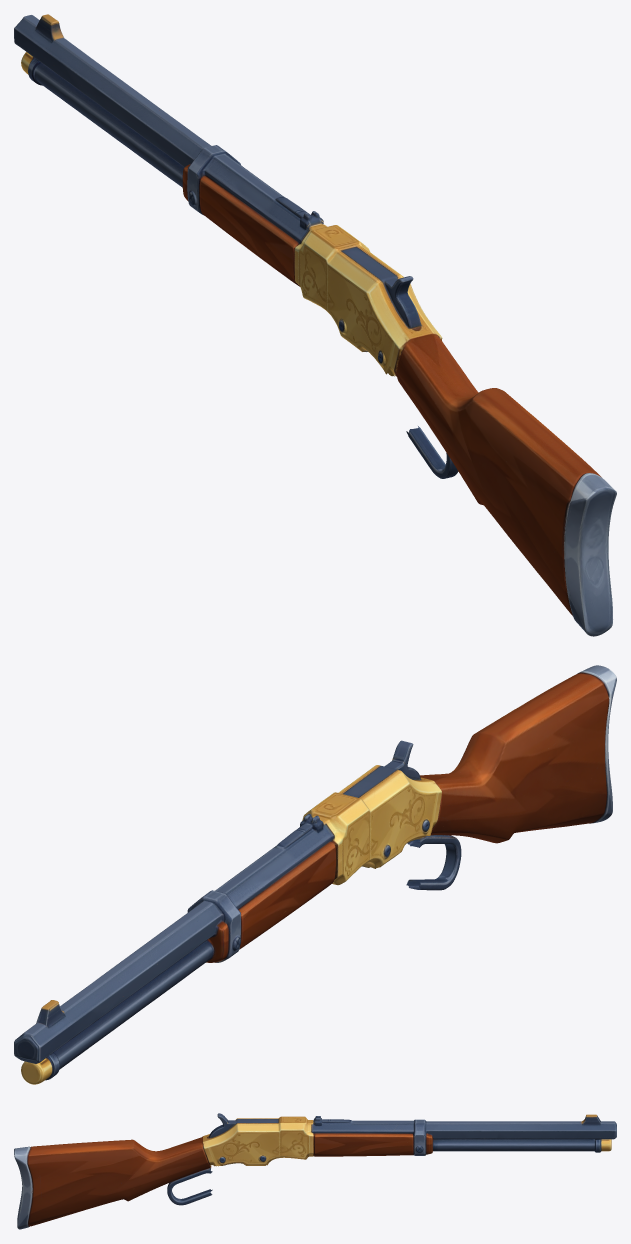
File: lever_rifle_body.glb
The picture shows the model from 3 angles, top to bottom: view 1: azimuth 30°, elevation 25°; view 2: azimuth 150°, elevation 25°; view 3: azimuth 270°, elevation 25°; orthographic projection. The views are drawn at different scales.
Parts seen in each view (by area): view 1: Mesh_0; view 2: Mesh_0; view 3: Mesh_0.
Part boxes in pixels (bbox=[...]): Mesh_0: bbox=[14, 14, 616, 636]; Mesh_0: bbox=[14, 665, 616, 1084]; Mesh_0: bbox=[14, 1113, 616, 1229].
Bounding box in the file's own units: 0.052 × 0.2294 × 1.1.
1 material, 1 textured.
